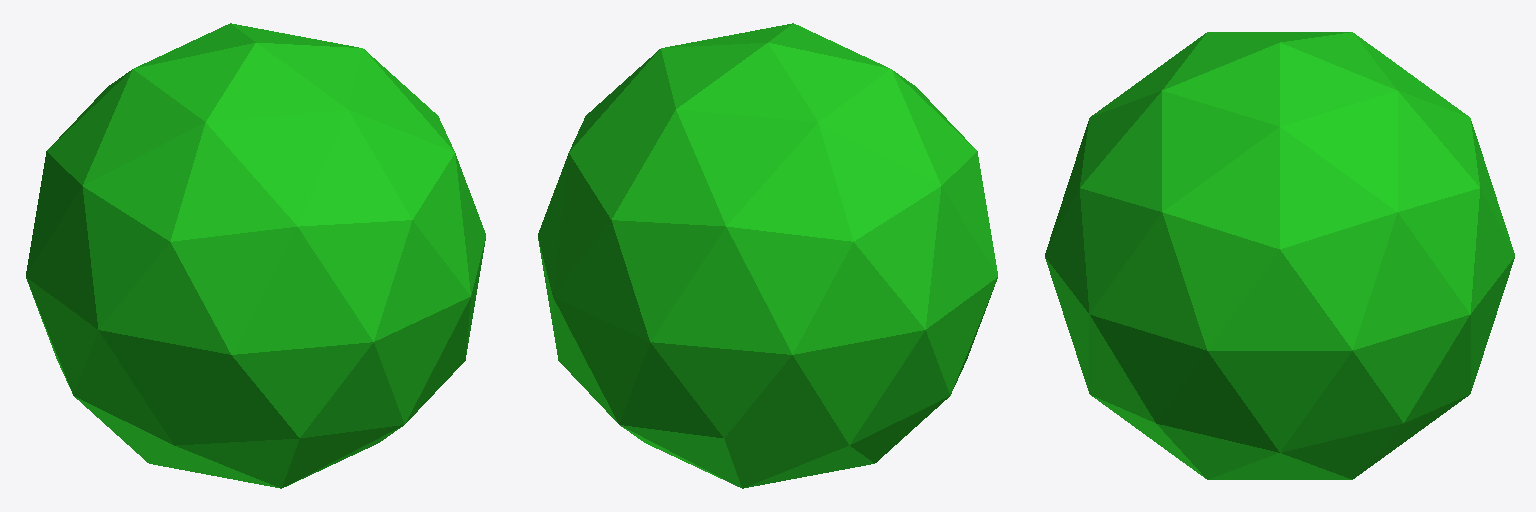
Rendered from anti_matter_positron_1.obj.
3 renders of one model, left to right at view 1: azimuth 30°, elevation 25°; view 2: azimuth 150°, elevation 25°; view 3: azimuth 270°, elevation 25°, orthographic.
Visible parts, largest first — view 1: Icosphere; view 2: Icosphere; view 3: Icosphere.
Part boxes in pixels (left/top/right/bottom): Icosphere: left=26, top=23, right=485, bottom=488; Icosphere: left=538, top=23, right=997, bottom=488; Icosphere: left=1045, top=32, right=1514, bottom=479.
Bounding box in the file's own units: 0.1753 × 0.1843 × 0.1843.